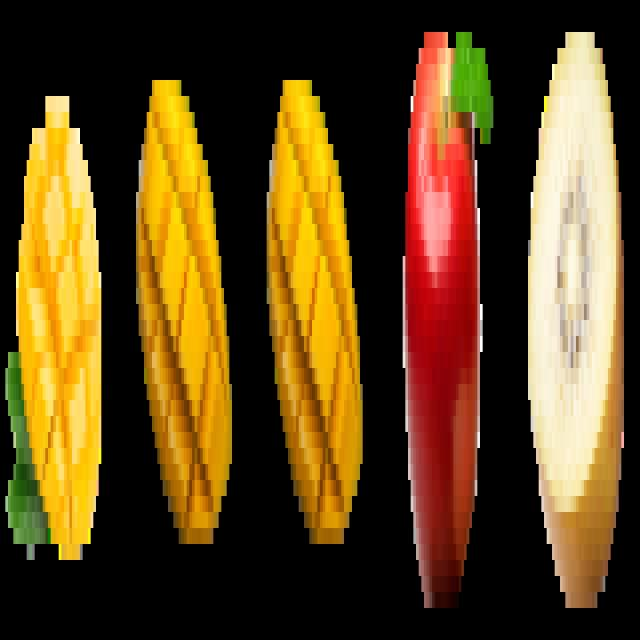apple: (396, 13, 496, 636)
kiwifruit: (524, 6, 629, 628)
mango: (261, 26, 375, 606), (130, 23, 240, 610), (3, 26, 107, 614)
